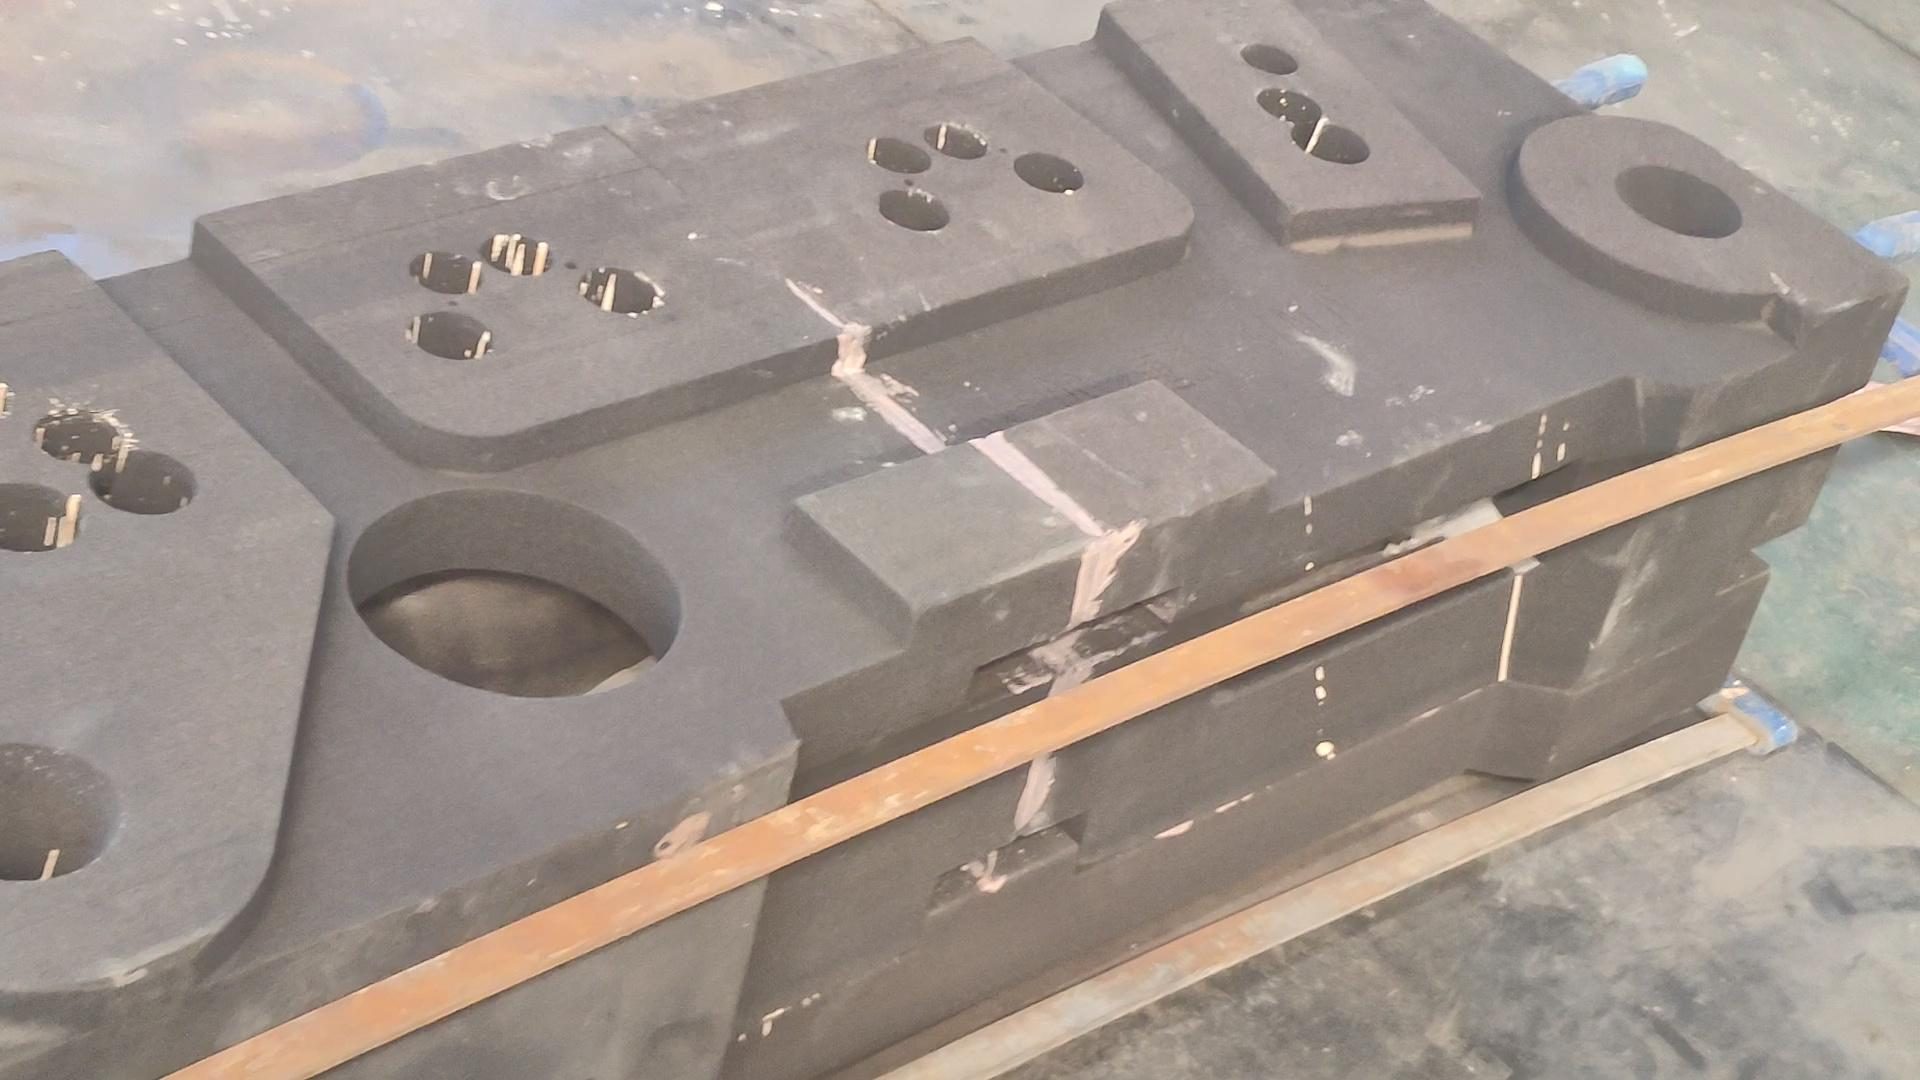pouring hole: (1, 742, 120, 880), (1613, 162, 1743, 240)
